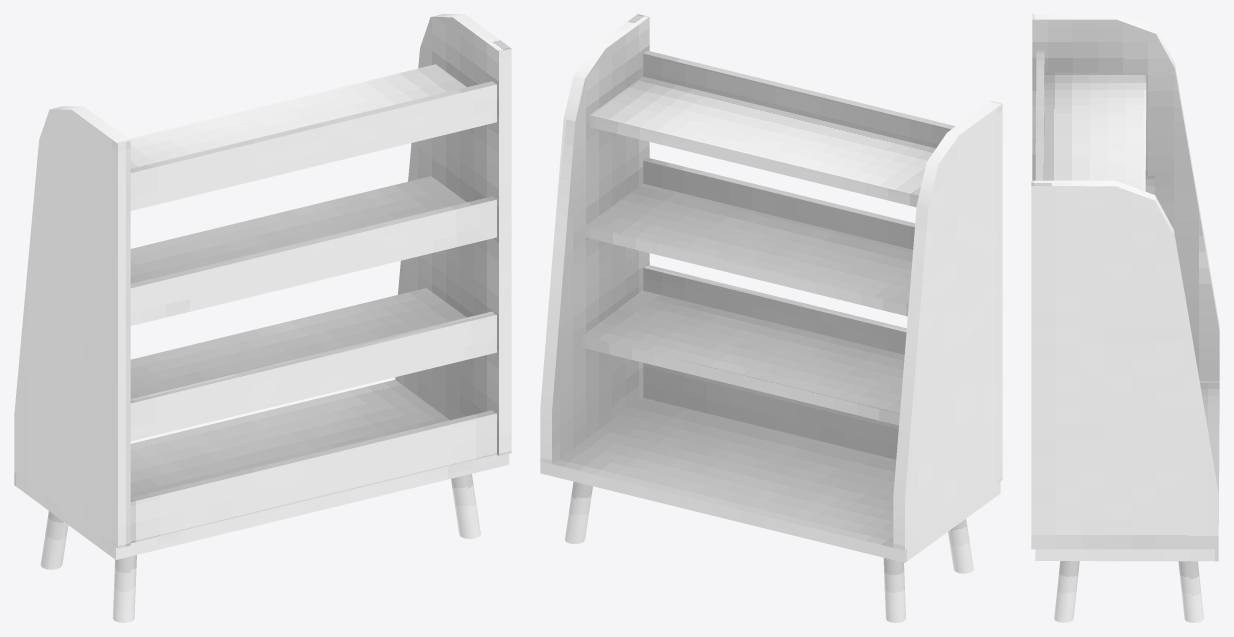
The model's file is BookShelf.glb.
3 views of the same model, side by side, from view 1: azimuth 30°, elevation 25°; view 2: azimuth 150°, elevation 25°; view 3: azimuth 270°, elevation 25° (orthographic). The views are drawn at different scales.
Parts seen in each view (by area): view 1: BookShelf, BookShelf.001; view 2: BookShelf, BookShelf.001; view 3: BookShelf, BookShelf.001.
Boxes of the visible parts, x1,y1,x2,y2 form: BookShelf: (14, 14, 511, 559); BookShelf.001: (40, 474, 480, 622); BookShelf: (540, 14, 1002, 562); BookShelf.001: (565, 481, 973, 622); BookShelf: (1031, 14, 1219, 561); BookShelf.001: (1054, 561, 1203, 622).
Size of the model in its own units: 0.9012 by 1.08 by 0.4166.
1 material, 1 textured.
